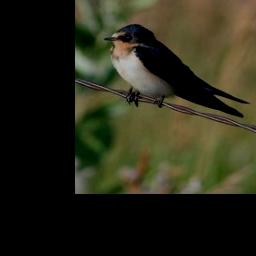Swallow: (102, 21, 250, 122)
